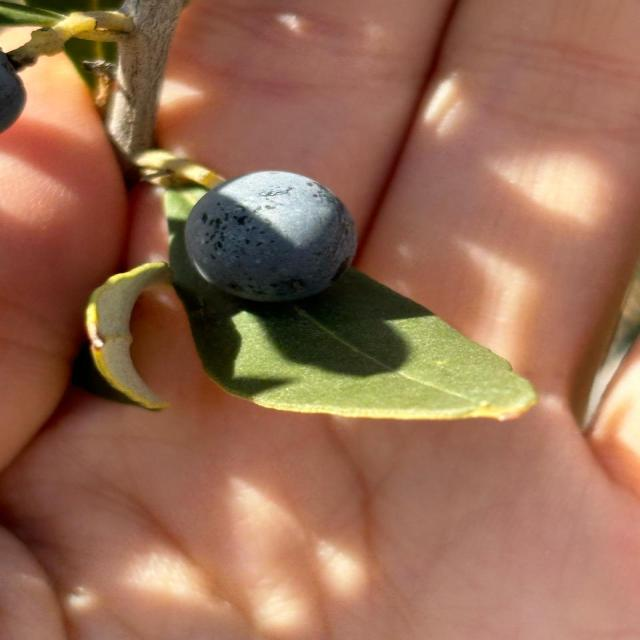Healthy: (184, 172, 357, 302)
